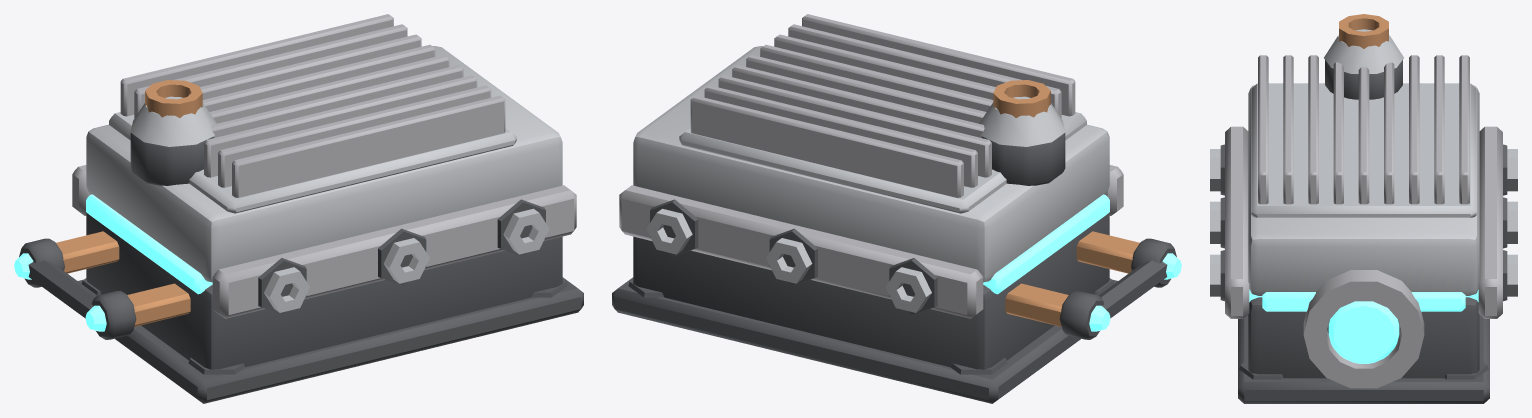
File: overcharge_core.glb
3 views of the same model, side by side, from view 1: azimuth 30°, elevation 25°; view 2: azimuth 150°, elevation 25°; view 3: azimuth 270°, elevation 25° (orthographic). The views are drawn at different scales.
Visible parts, largest first — view 1: body; view 2: body; view 3: body.
Part boxes in pixels (x1,y1,x2,y2): body: (14,14,583,403); body: (612,14,1181,403); body: (1210,14,1517,403).
Bounding box in the file's own units: 0.246 × 0.126 × 0.1528.
